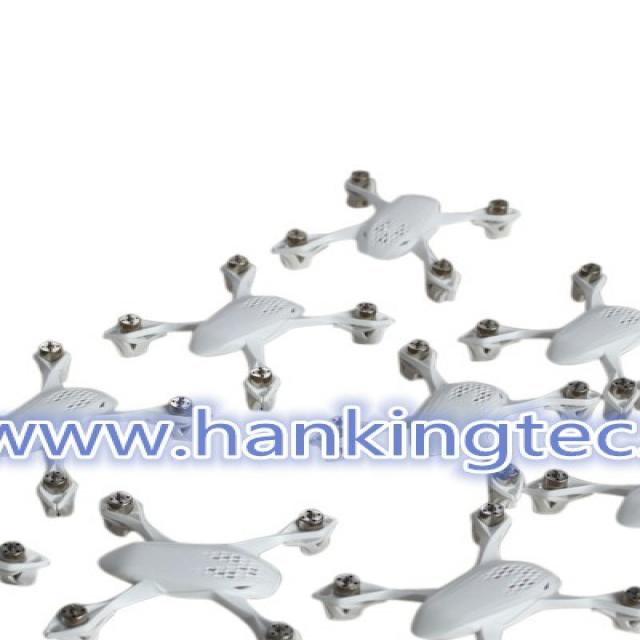drone: (91, 244, 400, 412), (307, 504, 640, 640), (331, 340, 627, 492), (61, 485, 333, 640), (261, 153, 520, 301), (0, 345, 202, 520), (459, 234, 640, 422), (534, 417, 640, 597)
